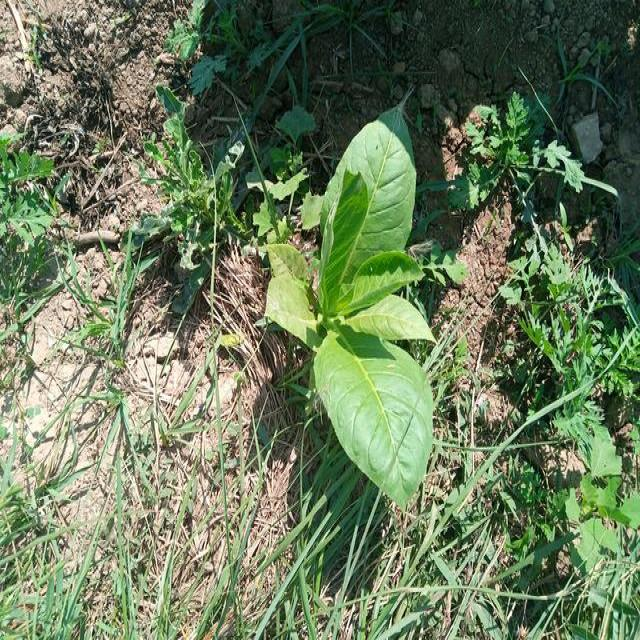crop: (262, 98, 436, 518)
